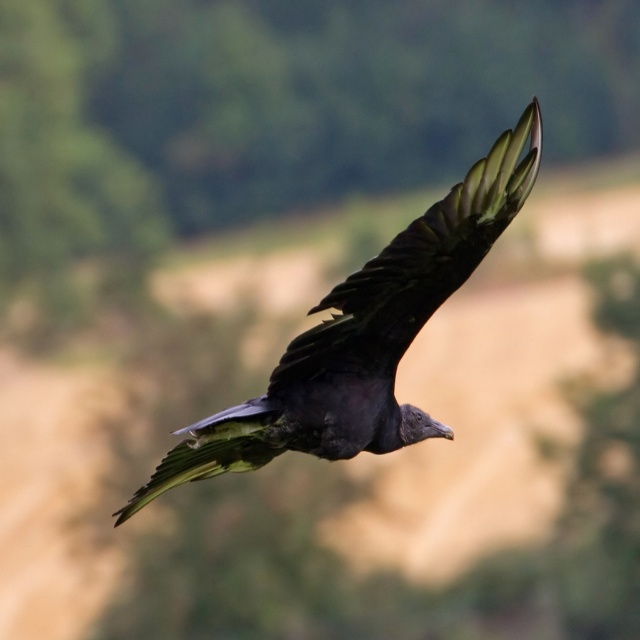Eagle: (108, 97, 545, 534)
